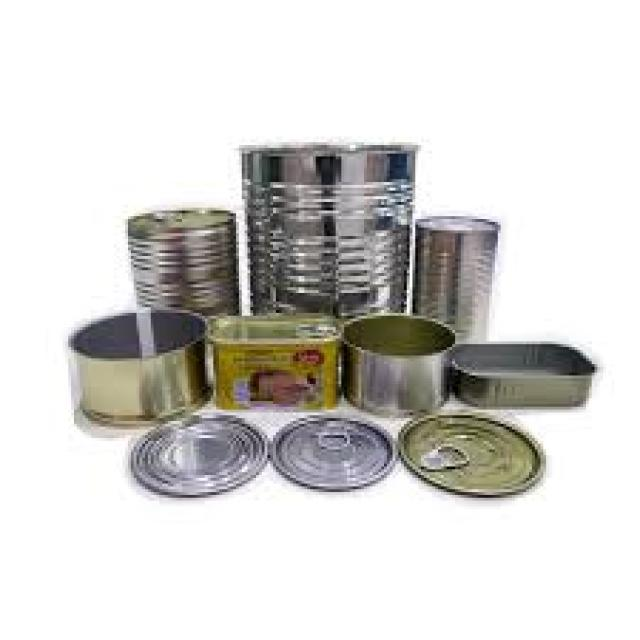Cans: (407, 213, 498, 350)
